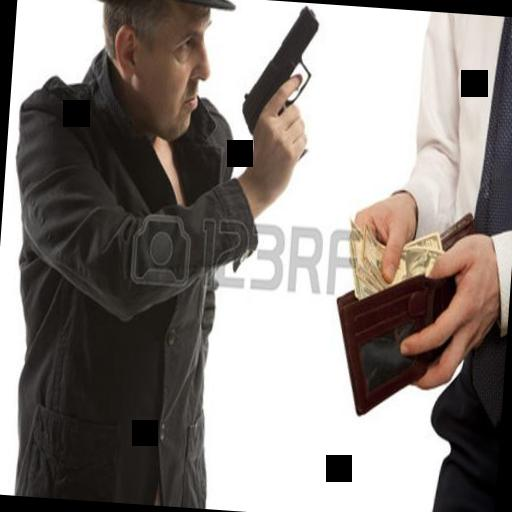Handgun: (236, 0, 321, 163)
